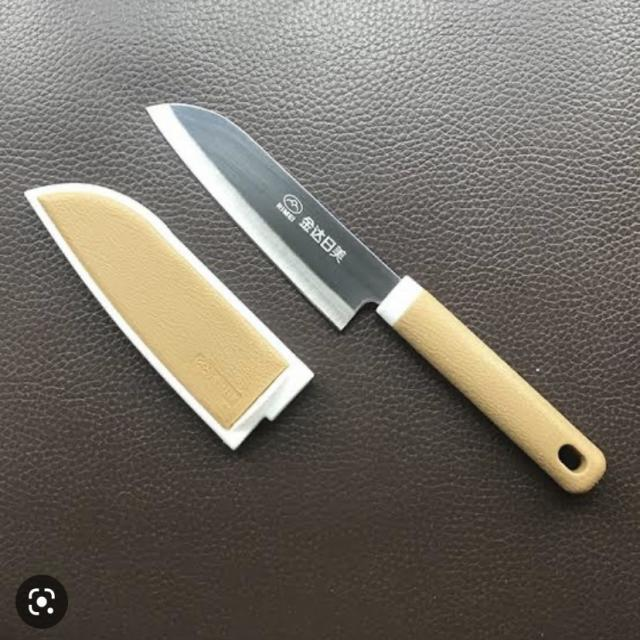Knife: (16, 59, 622, 516)
